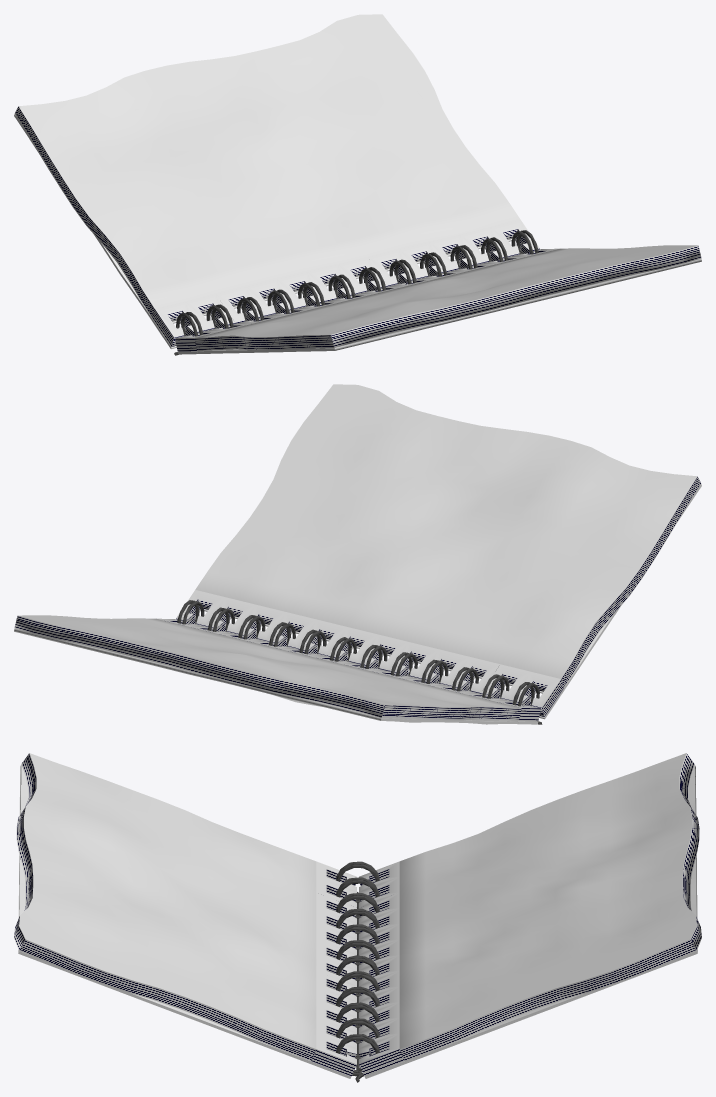
The model's file is JasintoHALFOPEN.fbx.
3 renders of one model, top to bottom at view 1: azimuth 30°, elevation 25°; view 2: azimuth 150°, elevation 25°; view 3: azimuth 270°, elevation 25°, orthographic. The views are drawn at different scales.
Parts seen in each view (by area): view 1: Cover Top.039; view 2: Cover Top.039; view 3: Cover Top.039.
Boxes of the visible parts, x1,y1,x2,y2 form: Cover Top.039: (14, 14, 701, 355); Cover Top.039: (14, 384, 701, 724); Cover Top.039: (14, 753, 701, 1082).
Size of the model in its own units: 290 by 103 by 440.
Materials: 4 (2 with a texture image).
